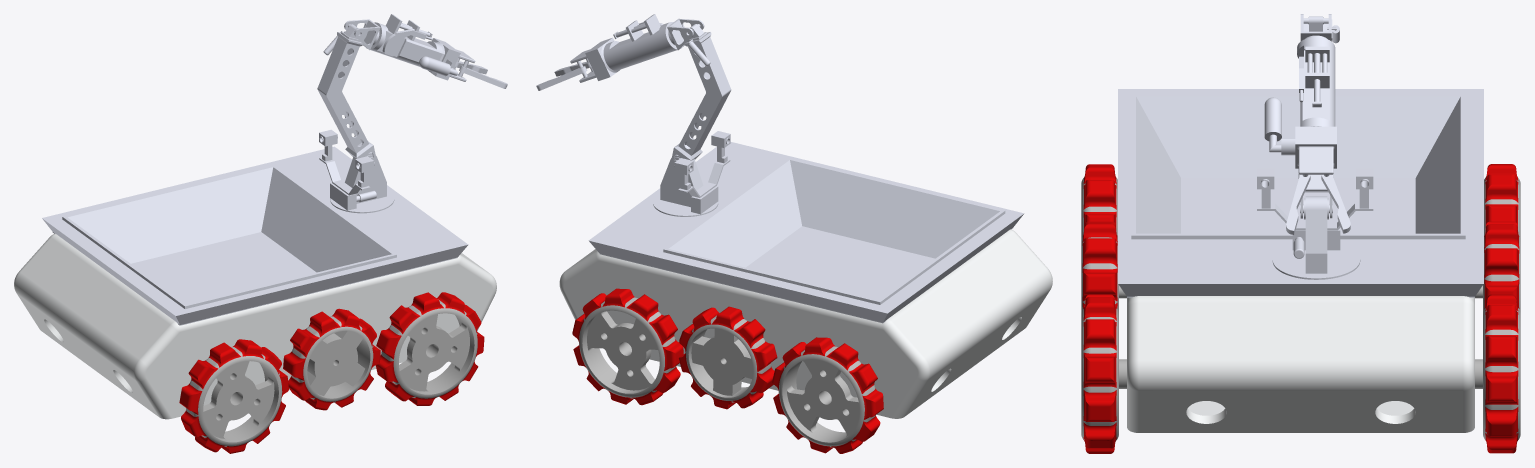
Rendered from CAR.fbx.
3 renders of one model, left to right at view 1: azimuth 30°, elevation 25°; view 2: azimuth 150°, elevation 25°; view 3: azimuth 270°, elevation 25°, orthographic. The views are drawn at different scales.
Parts seen in each view (by area): view 1: Body1, Body1.006, Cube, Body1.001, Body1.002, Body1.003, Body1.009, Body1.008, Body1.007, Body1.010; view 2: Body1, Body1.006, Cube, Body1.004, Body1.011, Body1.005, Body1.009, Body1.008, Body1.007, Body1.010; view 3: Body1, Body1.006, Cube, Body1.009, Body1.002, Body1.011, Body1.007, Body1.005, Body1.003, Body1.001, Body1.004, Body1.010 (+3 smaller).
Part boxes in pixels (x1,y1,x2,y2): Body1: (14, 233, 496, 419); Body1.006: (42, 146, 468, 325); Cube: (62, 165, 396, 308); Body1.001: (179, 339, 288, 453); Body1.002: (375, 292, 484, 405); Body1.003: (283, 308, 380, 410); Body1.009: (344, 14, 475, 81); Body1.008: (317, 24, 376, 167); Body1.007: (330, 152, 394, 213); Body1.010: (319, 129, 374, 195); Body1: (559, 229, 1052, 418); Body1.006: (588, 142, 1024, 323); Cube: (663, 158, 1005, 304); Body1.004: (772, 337, 883, 453); Body1.011: (572, 288, 683, 405); Body1.005: (678, 306, 777, 409); Body1.009: (570, 14, 704, 82); Body1.008: (670, 24, 731, 170); Body1.007: (653, 154, 718, 216); Body1.010: (674, 131, 730, 197); Body1: (1127, 296, 1474, 432); Body1.006: (1118, 89, 1483, 297); Cube: (1131, 94, 1465, 239); Body1.009: (1264, 14, 1336, 191); Body1.002: (1081, 294, 1126, 453); Body1.011: (1475, 294, 1520, 453); Body1.007: (1272, 196, 1360, 279); Body1.005: (1475, 221, 1520, 311); Body1.003: (1081, 221, 1126, 311); Body1.001: (1081, 164, 1117, 238); Body1.004: (1484, 164, 1520, 238); Body1.010: (1257, 168, 1373, 230).
Size of the model in its own units: 113 by 79.83 by 73.22.
